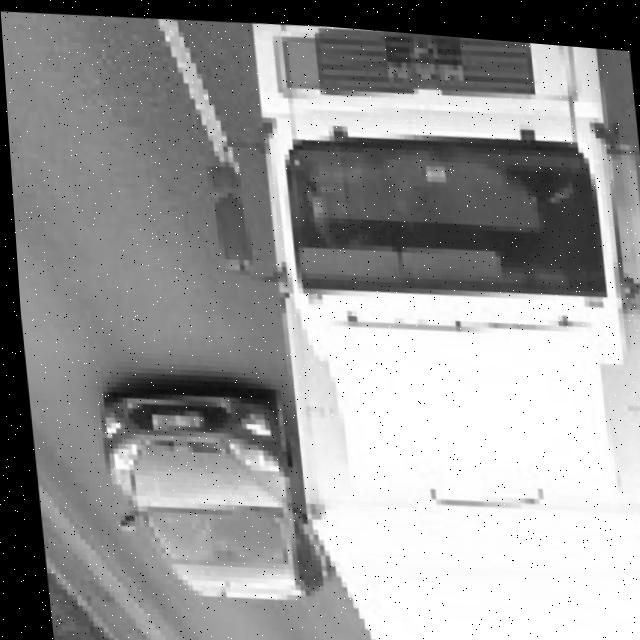truck: (188, 13, 640, 507)
